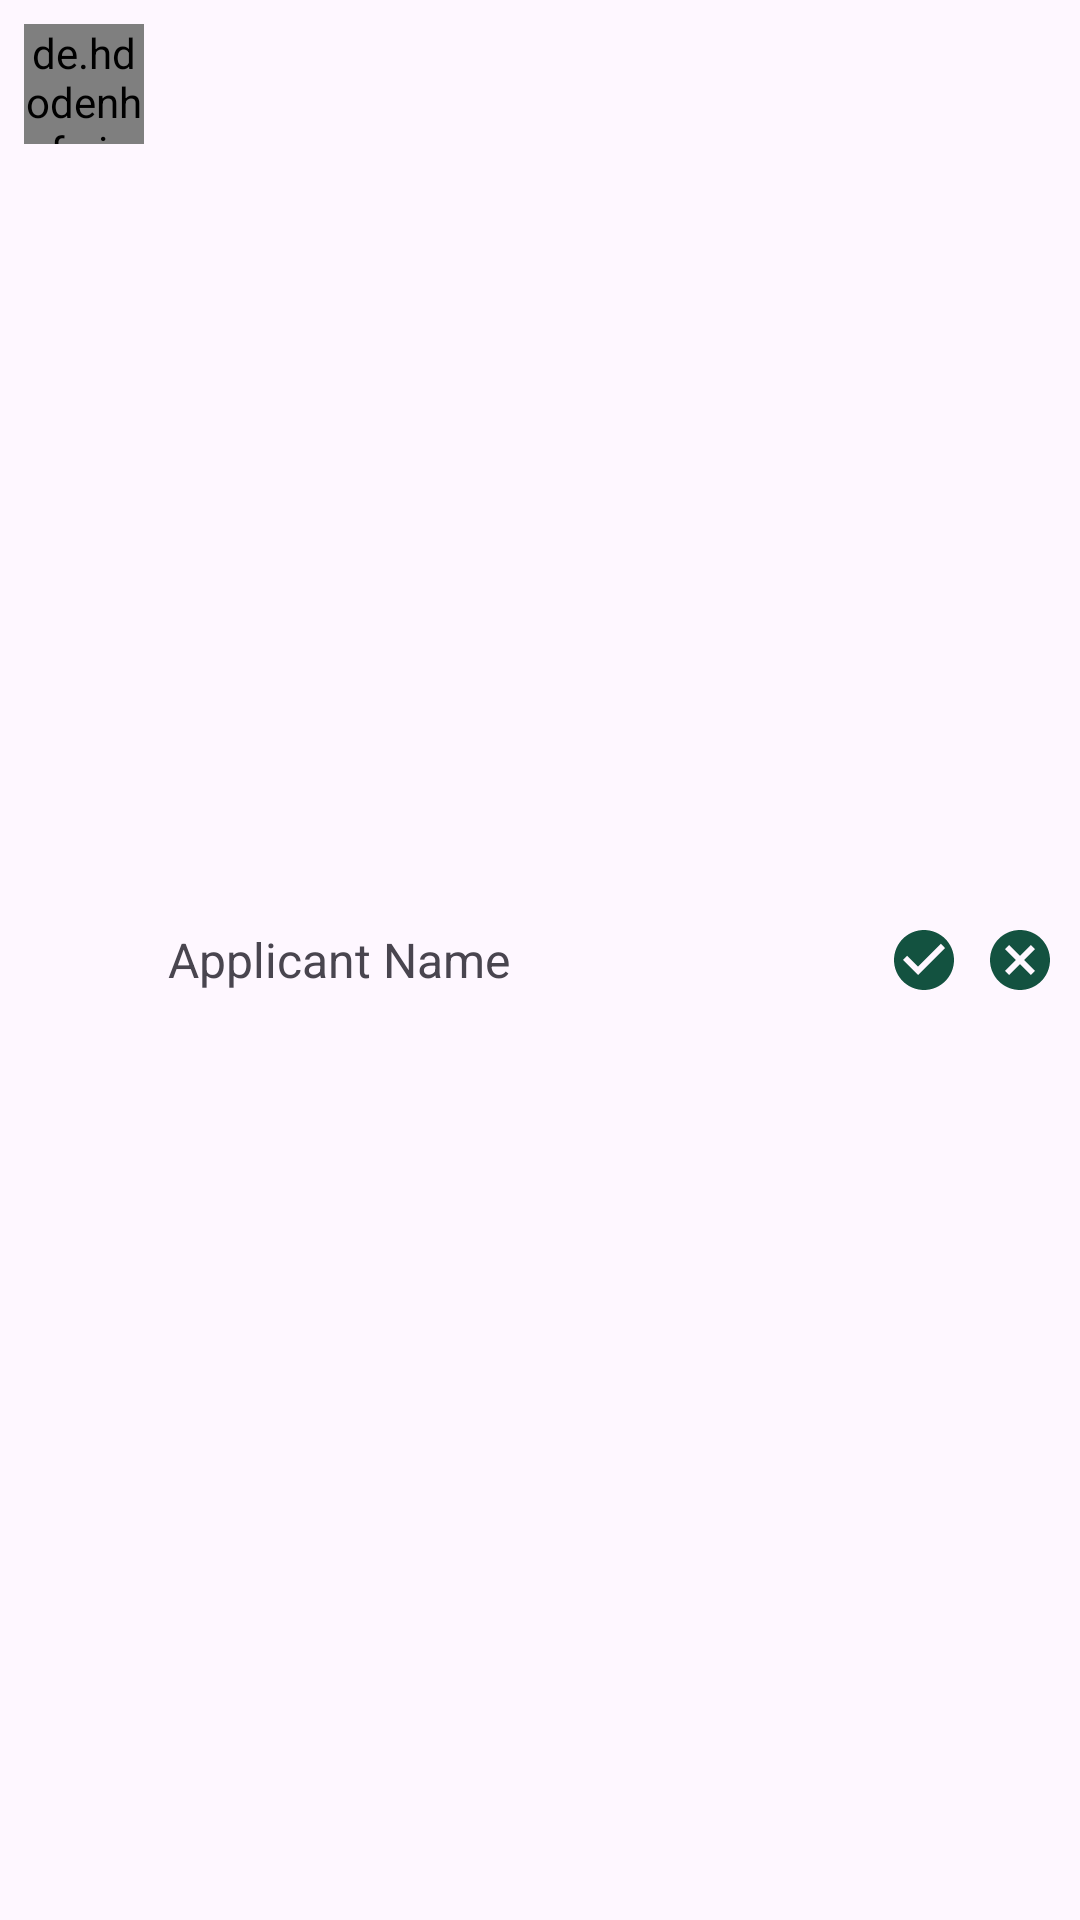

Icon bounding boxes for this 1080×1920 phone screenshot, format (x1, y1, x2, y2):
cancel: (990, 930, 1050, 990)
check circle: (894, 930, 954, 990)
